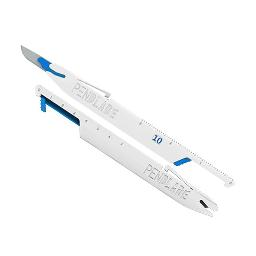scalpel: (20, 44, 236, 188)
